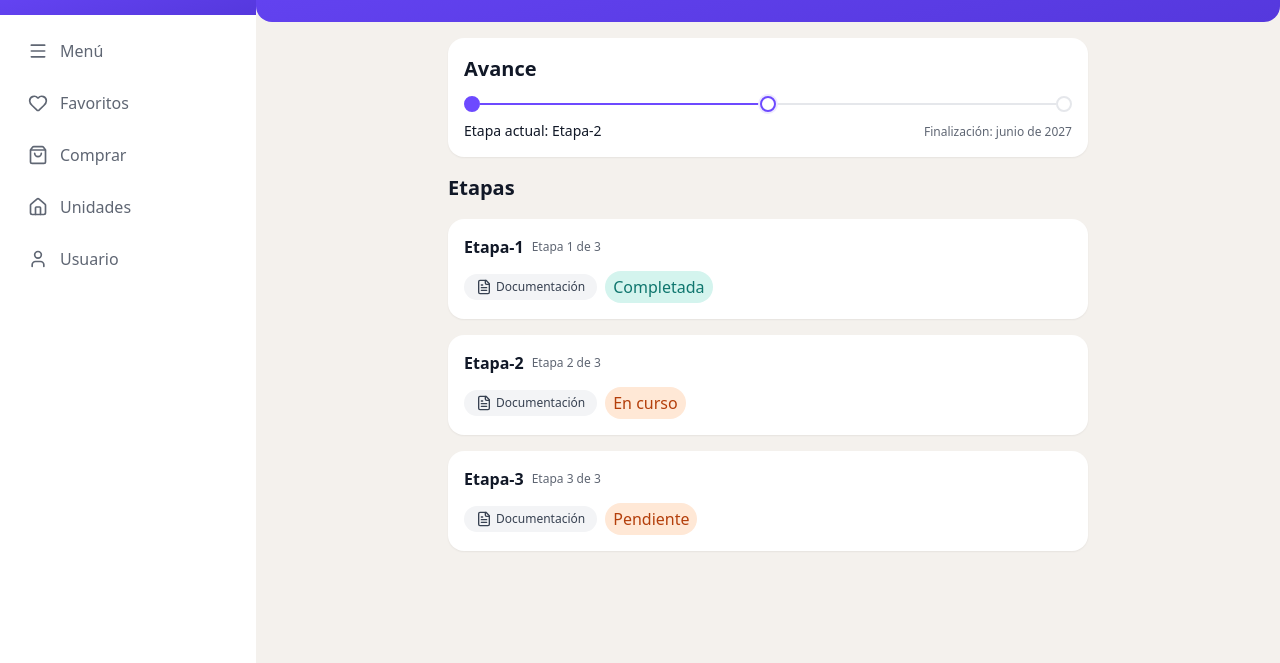
Test: /project/:projectId/progress (investor) › tocar una etapa de la lista navega a su detalle
The image size is (1280, 663).
(page scrolled)
Step 1. Click the button "Etapa-3 Etapa 3 de 3 Documentación Pendiente" → (494,479), box [448,451,1088,551]
(page scrolled)
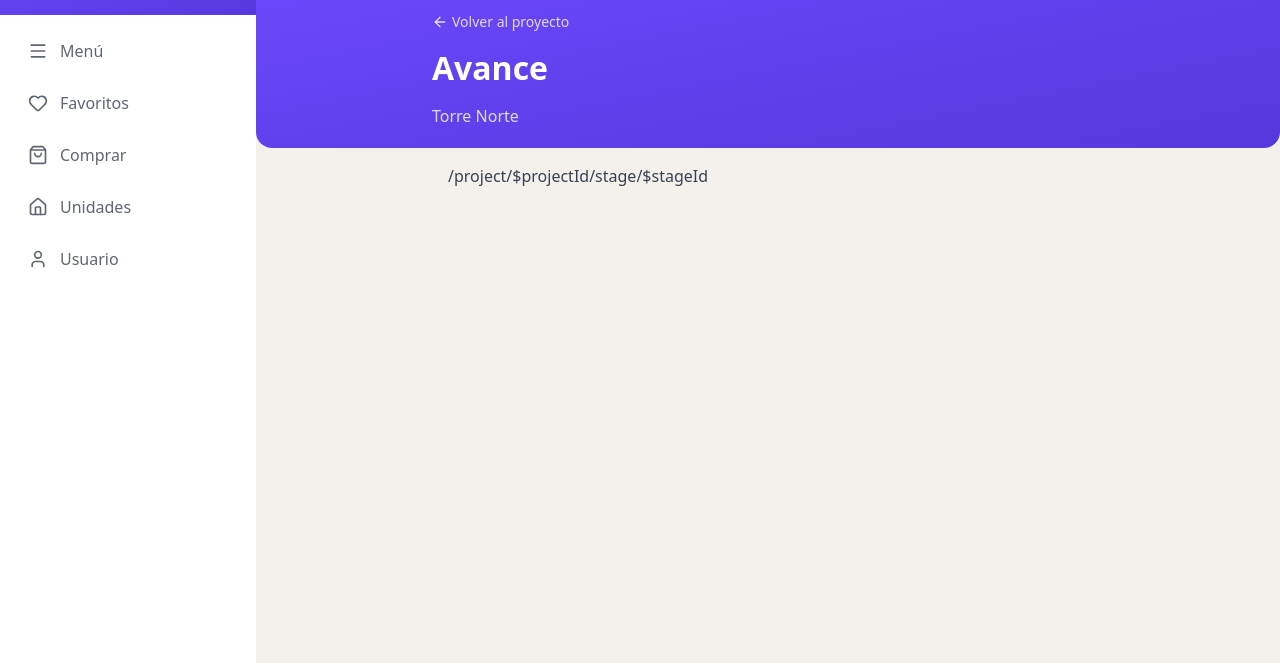
Result: the text "/project/$projectId/stage/$stageId" is shown at [448,165,708,187]
